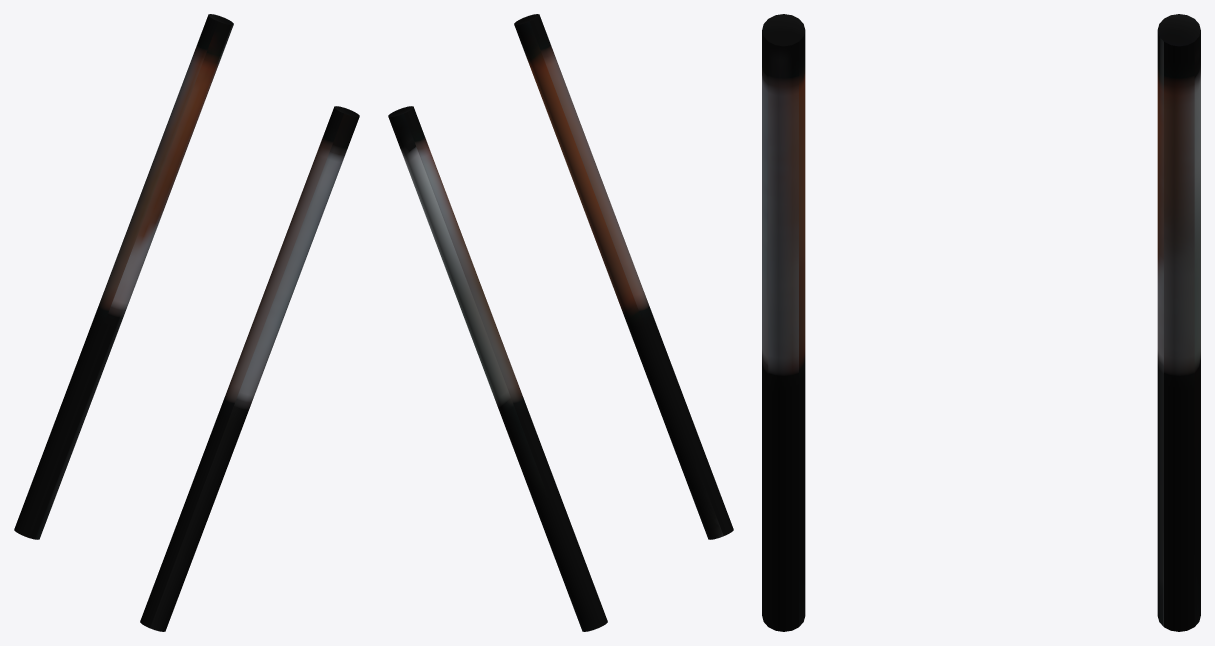
File: zx120-boom-cyl2.dae
3 views of the same model, side by side, from view 1: azimuth 30°, elevation 25°; view 2: azimuth 150°, elevation 25°; view 3: azimuth 270°, elevation 25° (orthographic). The views are drawn at different scales.
Parts seen in each view (by area): view 1: bd-bm-D-Cyl; view 2: bd-bm-D-Cyl; view 3: bd-bm-D-Cyl.
Boxes of the visible parts, <box> form: bd-bm-D-Cyl: <box>14,14,359,631</box>; bd-bm-D-Cyl: <box>388,14,733,631</box>; bd-bm-D-Cyl: <box>762,14,1200,631</box>.
Bounding box in the file's own units: 0.543 × 0.6078 × 1.15.
1 material, 1 textured.
